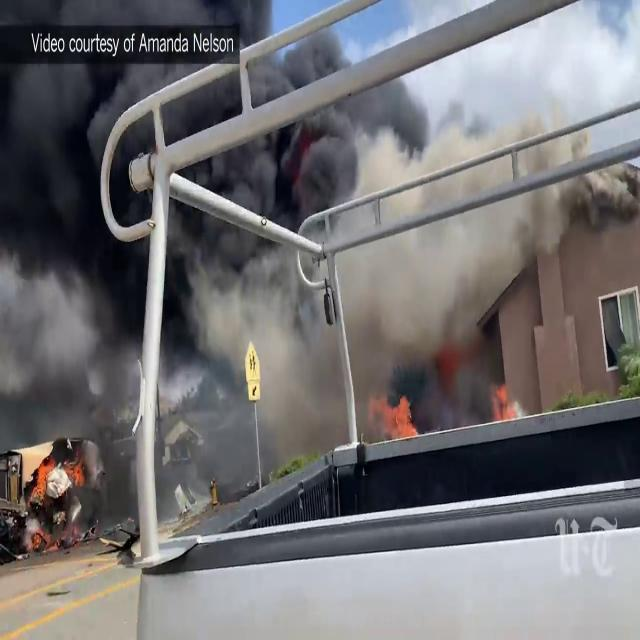Smoke: (160, 0, 640, 536), (0, 226, 194, 487)
